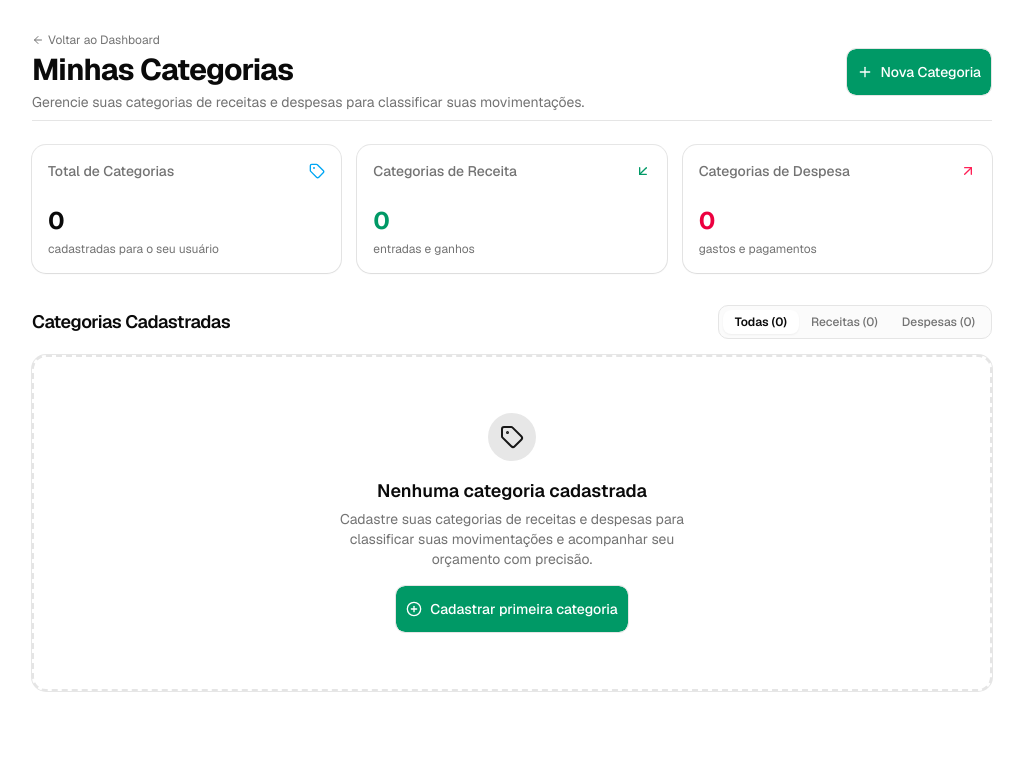
CategoriesView Component › deve abrir o modal de nova categoria ao clicar no botão Nova Categoria
The width and height of the screenshot is (1024, 768).
Expected: the element with test id "categories-empty-state" is shown, [32,355,992,691]
Click the button with test id "open-create-category-button" at (919, 72), box [846,48,992,96]
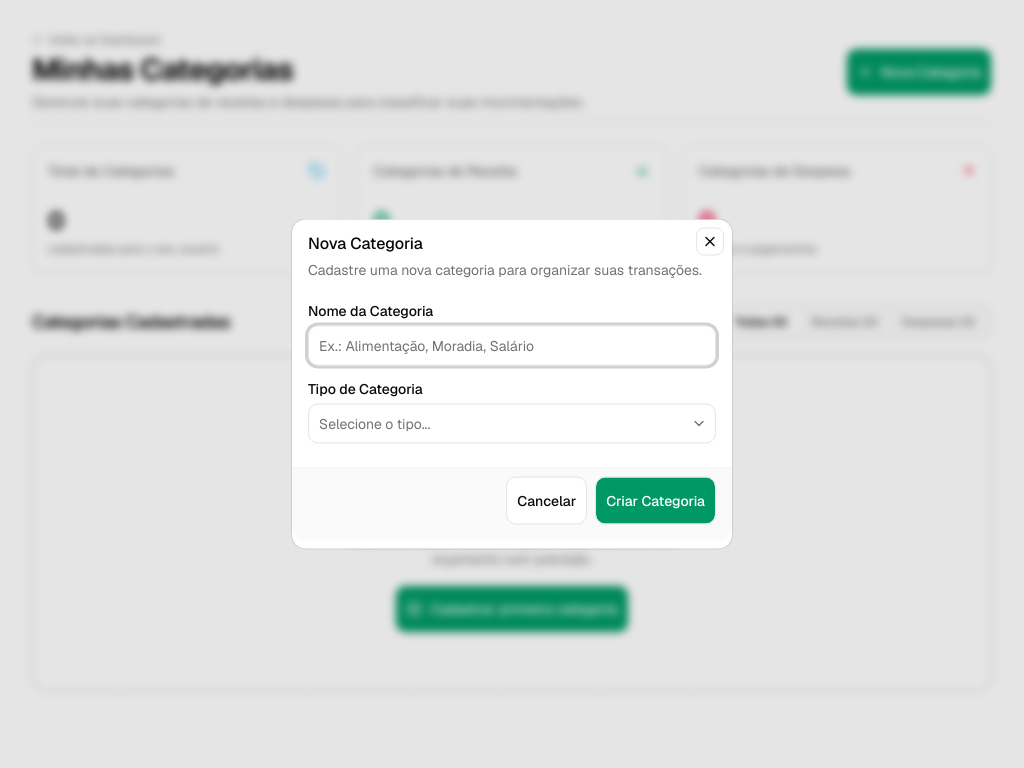
Expected: the dialog with test id "category-form-dialog" is shown, [292,220,732,548]
Expected: the heading "Nova Categoria" is shown, [308,232,423,254]
